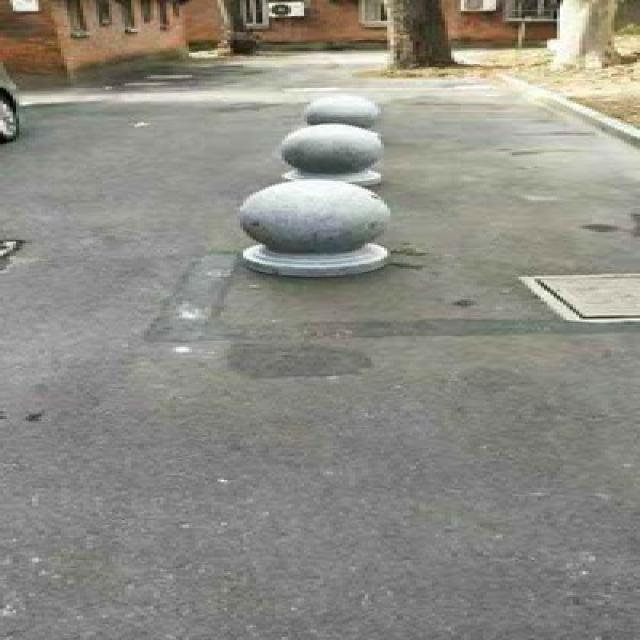spherical_roadblock: (227, 176, 394, 275), (269, 120, 384, 186), (294, 91, 381, 123)
